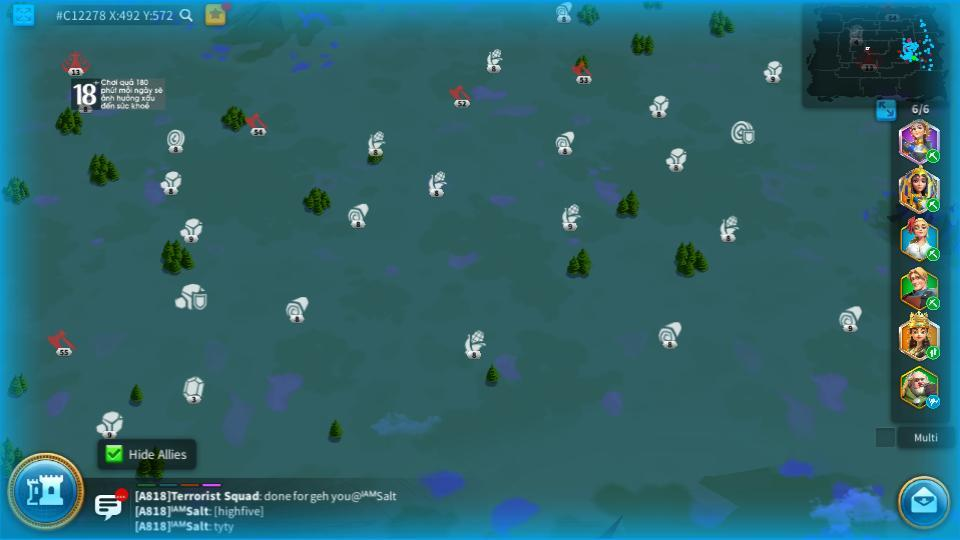gem-z-out: (181, 377, 205, 402)
march_farming: (924, 197, 939, 212), (924, 149, 939, 162), (926, 250, 940, 260)
march_idle: (925, 396, 942, 408)
march_marching: (925, 347, 941, 359)
